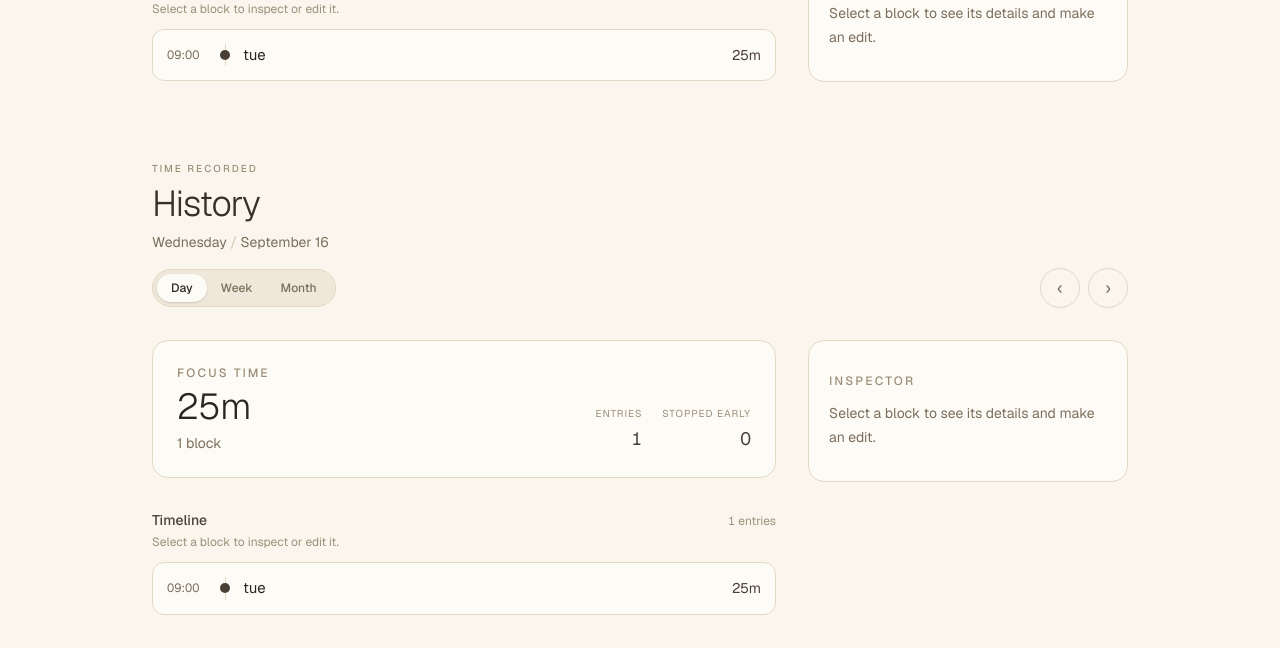
Test case: HistoryPage daily bars (SCR-20) › renders no bars in Day or in the empty state
(page scrolled)
Click the button "Week".
click(237, 288)  # box [207,274,267,302]
(page scrolled)
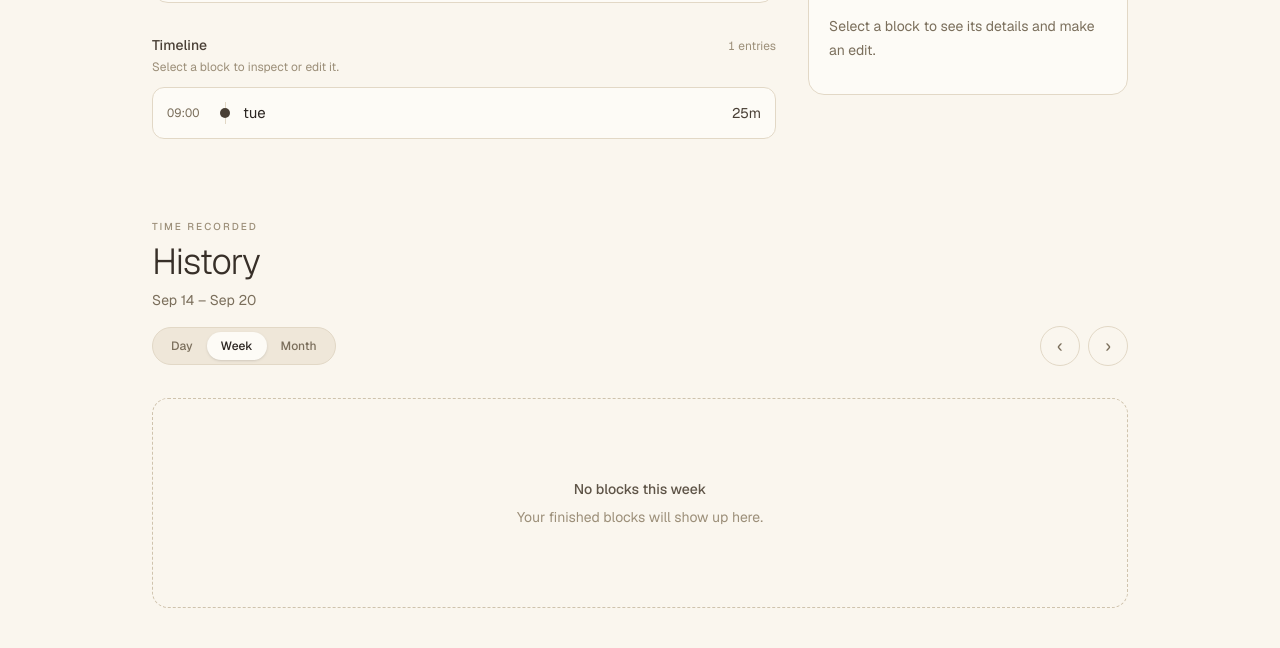
expect the text "No blocks this week" is shown: met, box [574,480,706,498]
